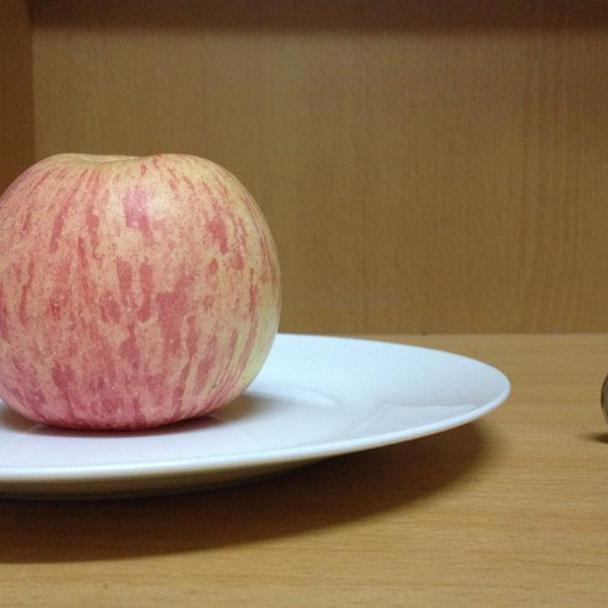apple: (1, 152, 284, 429)
